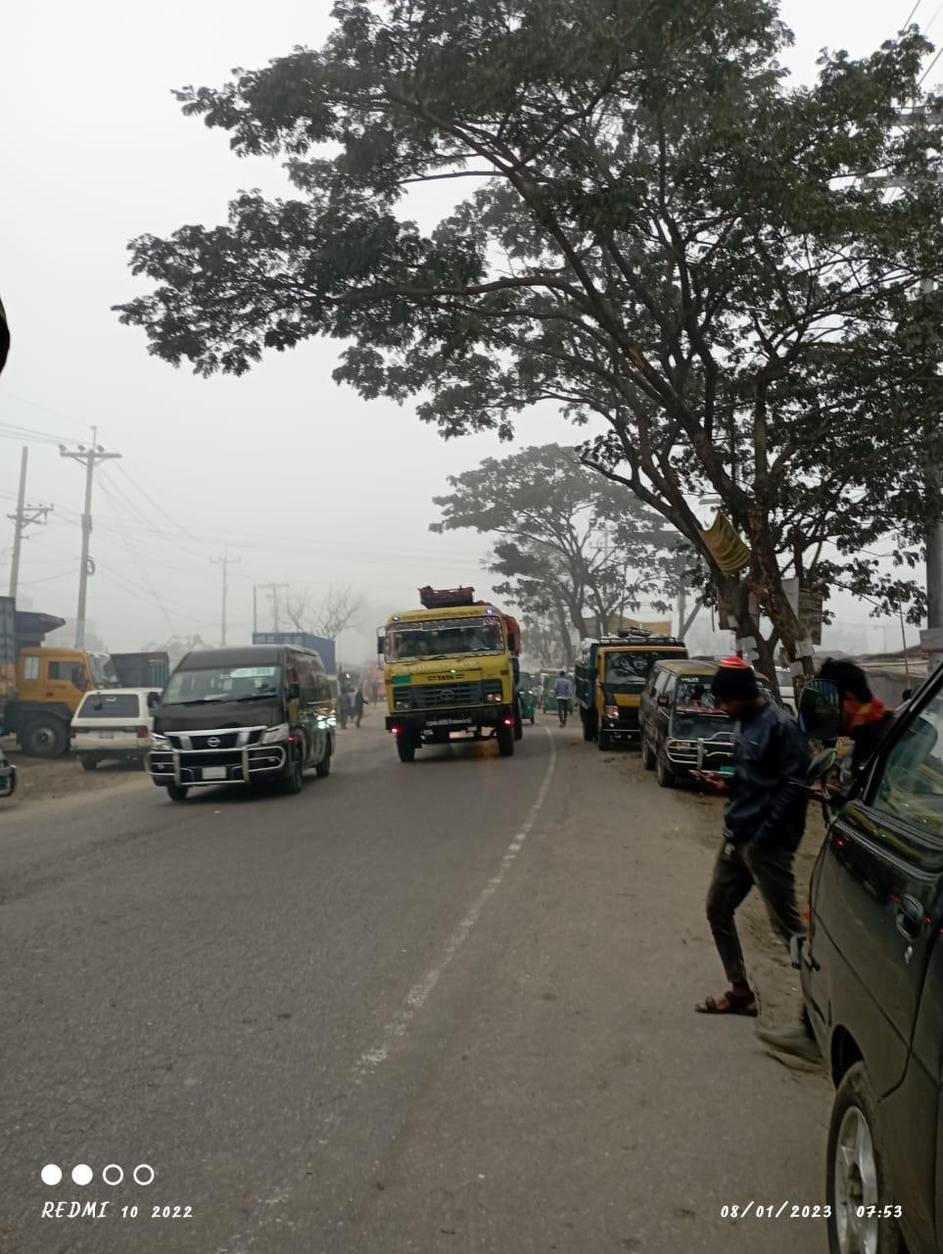Car: (787, 642, 943, 1254), (139, 639, 338, 796), (637, 657, 758, 792), (59, 682, 155, 777)
Truck: (377, 579, 530, 767), (570, 631, 662, 746)
